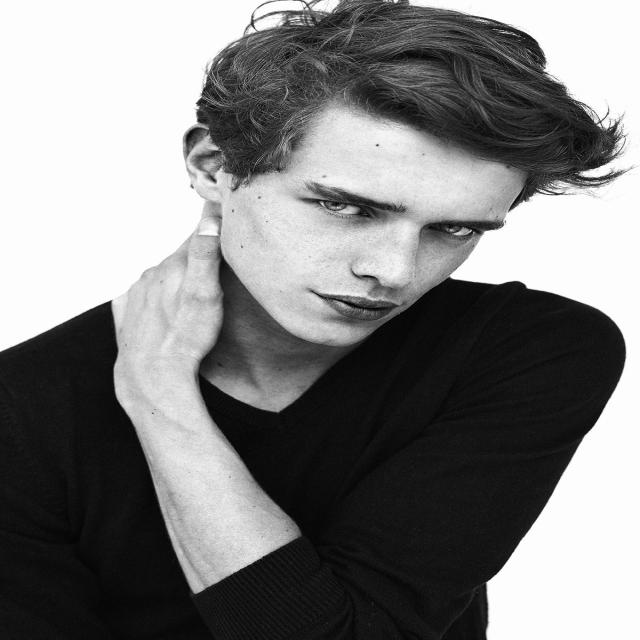front: (251, 157, 509, 347)
